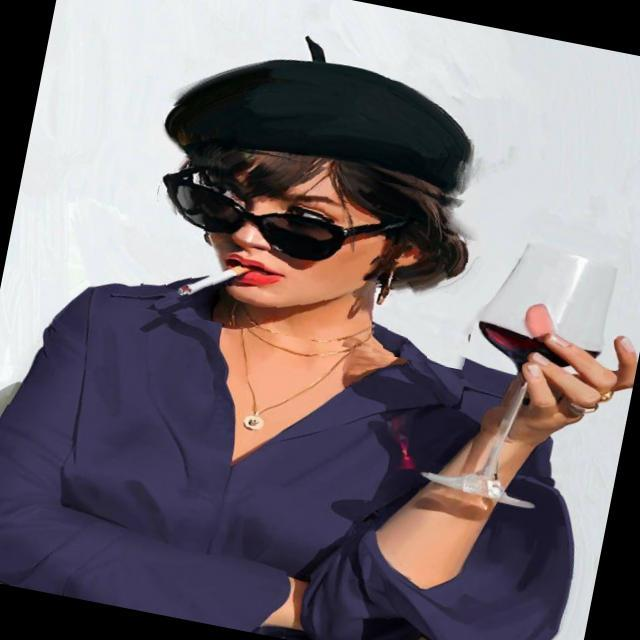cigarette: (172, 234, 268, 324)
